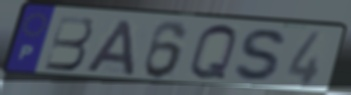4: (284, 29, 325, 89)
6: (141, 19, 189, 82)
A: (83, 18, 137, 78)
B: (42, 14, 95, 73)
Q: (187, 22, 240, 83)
S: (231, 27, 290, 85)
